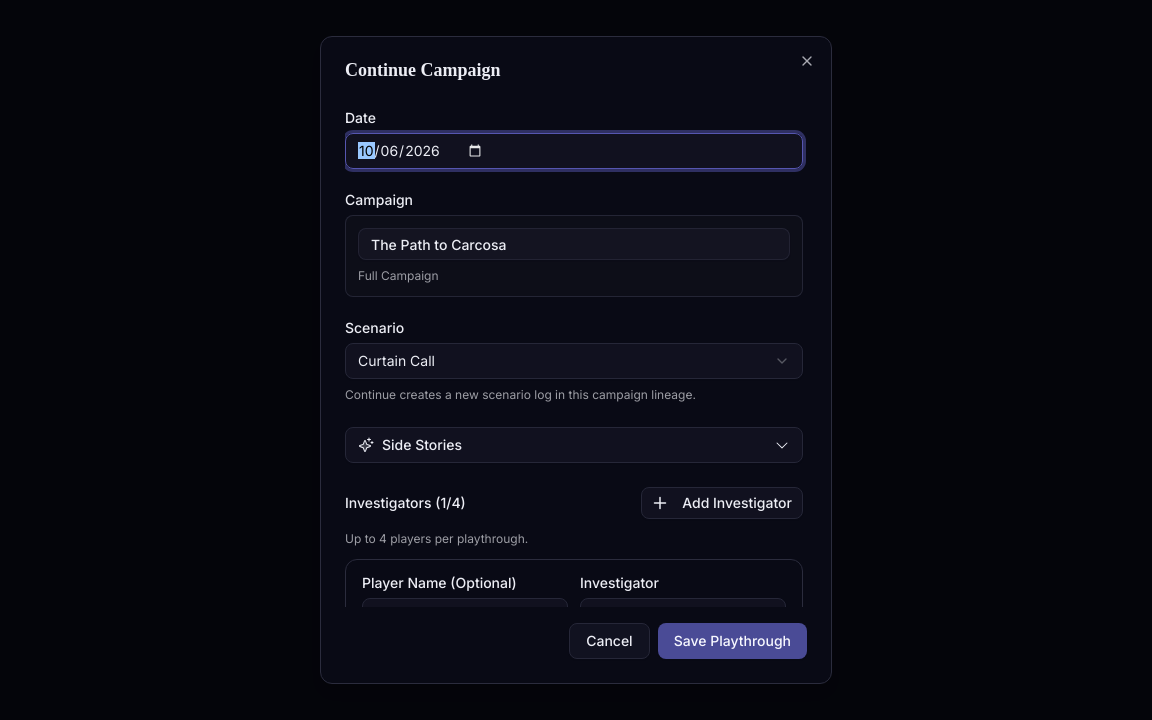
PlaythroughForm continue-campaign seeding › lists Path to Carcosa canonical scenarios in order and does not include campaign title as a scenario option
The width and height of the screenshot is (1152, 720).
Click the dropdown named "Scenario". click: (396, 360)
box: [345,343,803,379]
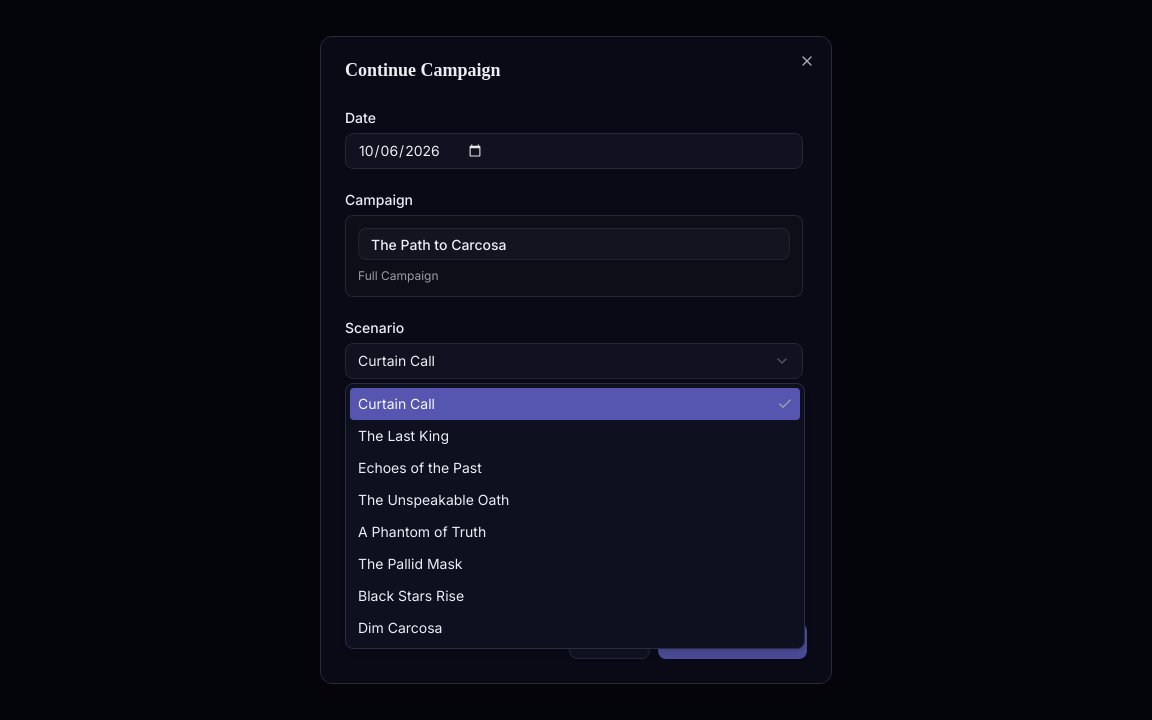
Expected: the text "Curtain Call" below "Full Campaign" is shown, [358,352,435,369]
Now the text "The Last King" is shown, box [358,426,449,446]
